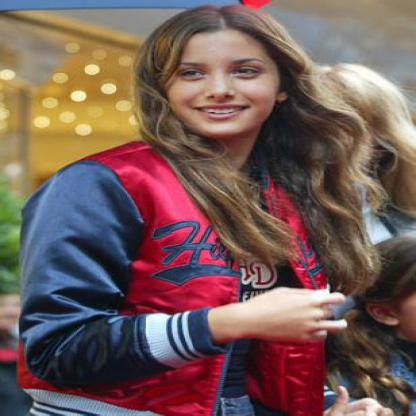face: (157, 12, 283, 138)
